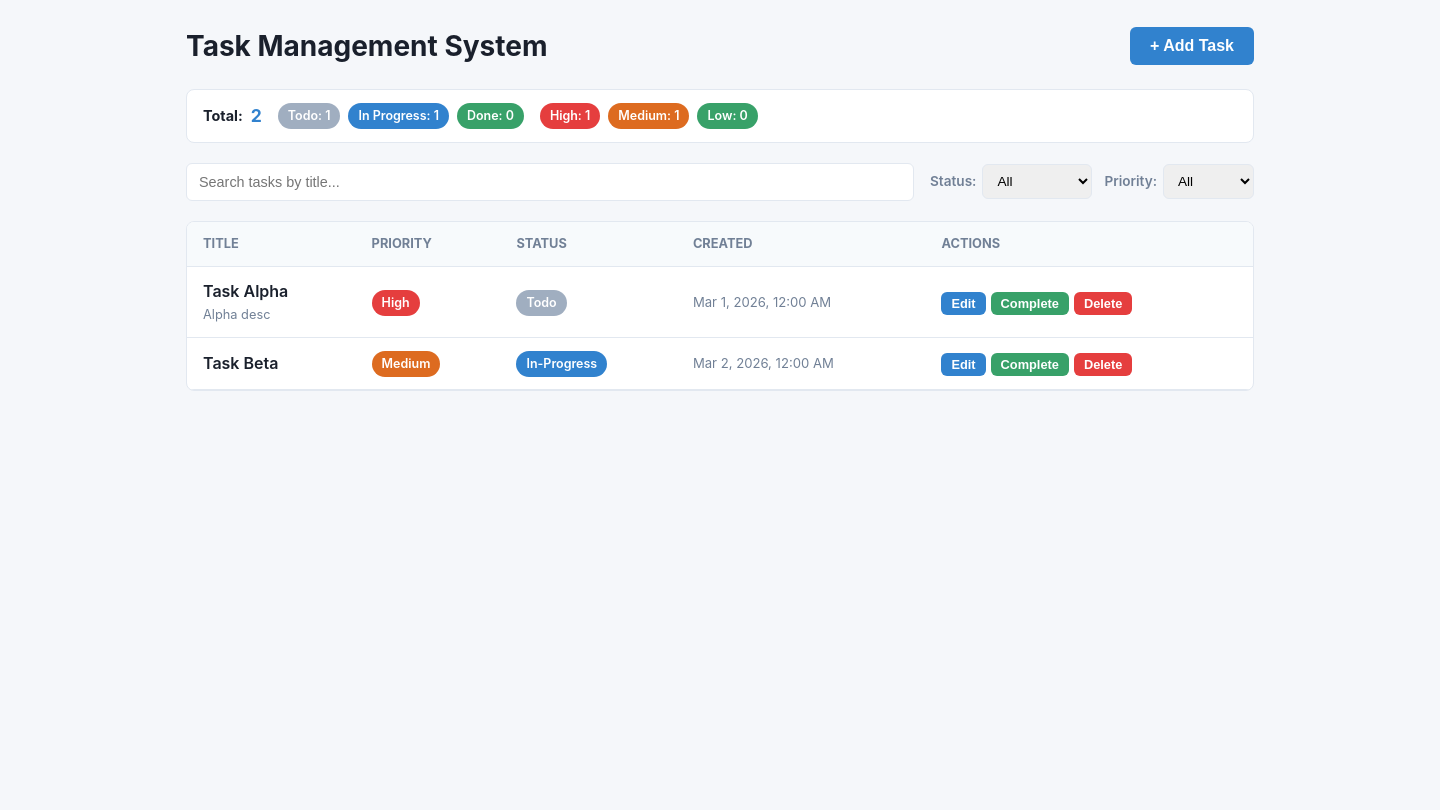
Scenario: App › opens Add Task modal
Expected: the text "Task Alpha" is shown, left=203, top=281, right=288, bottom=301
What coordinates should you click on to do the following:
click the button "+ Add Task"
I would click on:
 (1192, 46)
Its box is left=1130, top=27, right=1254, bottom=65.
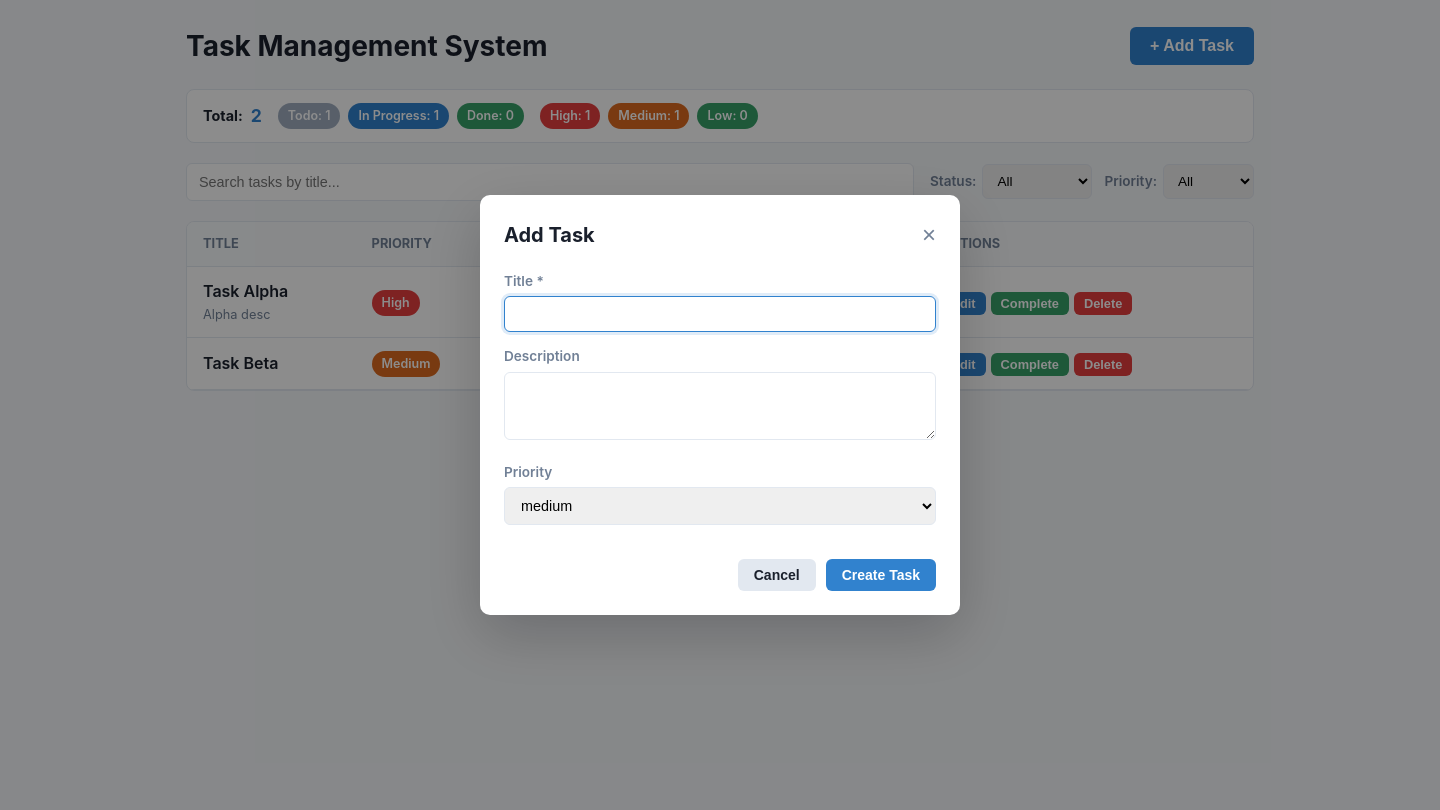
Expected: the heading "Add Task" is shown, left=504, top=219, right=595, bottom=251
